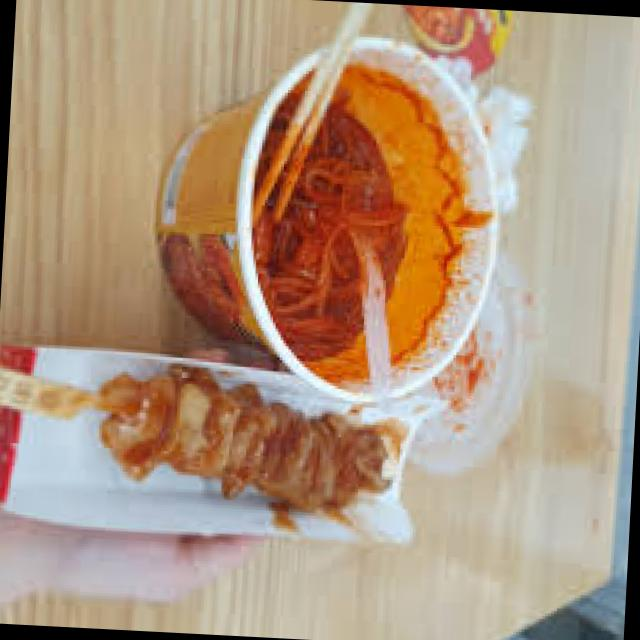Instant Noodle Cups: (149, 27, 500, 407)
paper: (0, 338, 449, 544)
plastic-bowl: (393, 228, 537, 483)
plastic-spoon: (358, 243, 407, 399)
trash: (424, 42, 539, 229), (393, 3, 527, 75)
wooden chopsticks: (247, 1, 385, 240), (0, 356, 106, 433)
